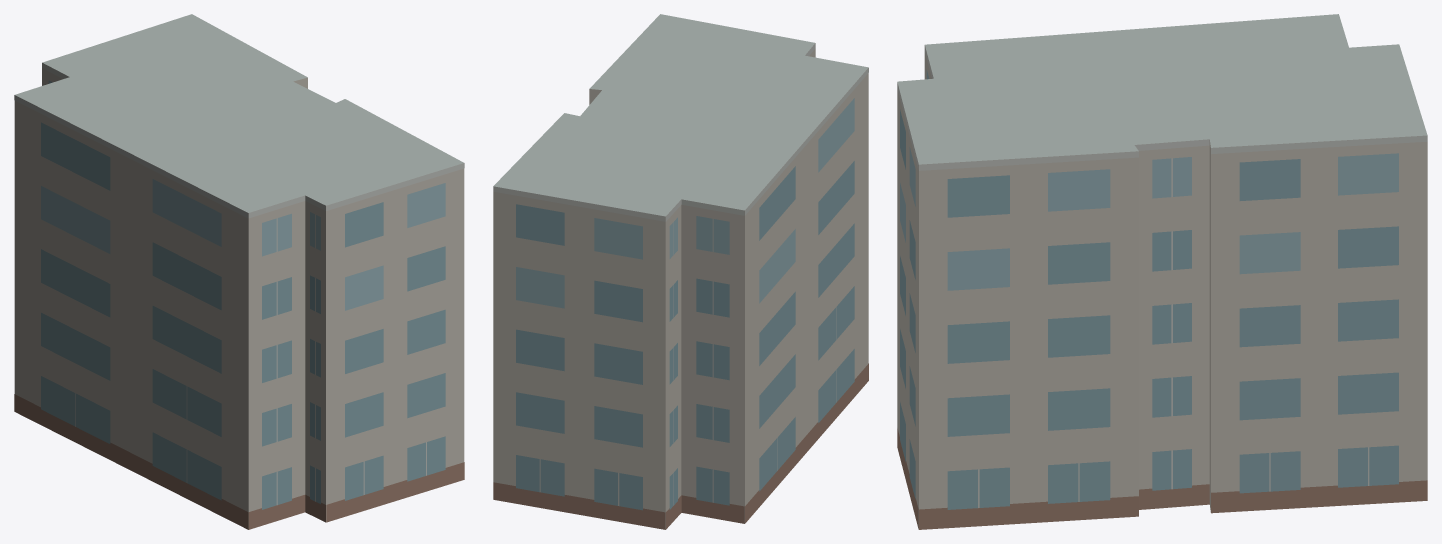
The model's file is survey-upis-32576855.glb.
The picture shows the model from 3 angles, left to right: view 1: azimuth 30°, elevation 25°; view 2: azimuth 150°, elevation 25°; view 3: azimuth 270°, elevation 25°; orthographic projection. The views are drawn at different scales.
Visible parts, largest first — view 1: survey-upis-32576855.tmp; view 2: survey-upis-32576855.tmp; view 3: survey-upis-32576855.tmp.
Part boxes in pixels (x1,y1,x2,y2): survey-upis-32576855.tmp: [14, 14, 464, 529]; survey-upis-32576855.tmp: [493, 14, 868, 529]; survey-upis-32576855.tmp: [897, 14, 1427, 529].
Size of the model in its own units: 12.57 by 14.2 by 18.7.
